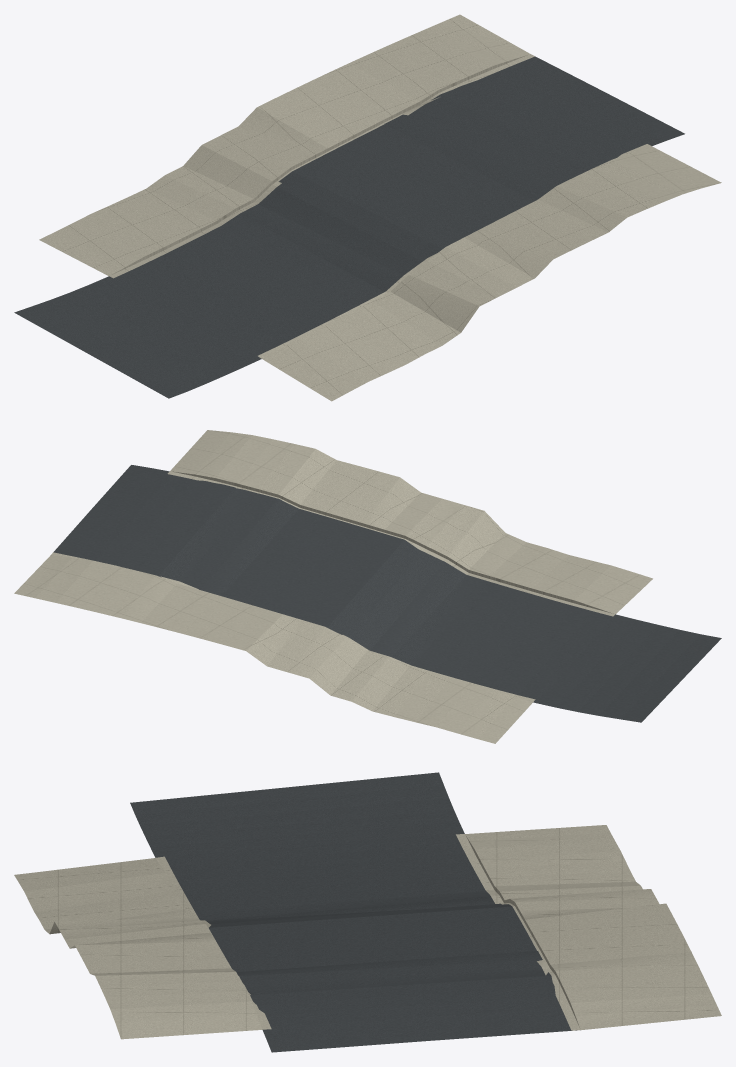
The picture shows the model from 3 angles, top to bottom: view 1: azimuth 30°, elevation 25°; view 2: azimuth 150°, elevation 25°; view 3: azimuth 270°, elevation 25°; orthographic projection. The views are drawn at different scales.
Visible parts, largest first — view 1: Carriageway, Clipped sidewalks with lowered crossing approaches, Concrete drainage margins, Raised curb faces; view 2: Carriageway, Clipped sidewalks with lowered crossing approaches, Concrete drainage margins, Raised curb faces; view 3: Carriageway, Clipped sidewalks with lowered crossing approaches, Concrete drainage margins, Raised curb faces.
Boxes of the visible parts, x1,y1,x2,y2 form: Carriageway: (14,56,684,398); Clipped sidewalks with lowered crossing approaches: (39,14,721,401); Concrete drainage margins: (109,54,651,358); Raised curb faces: (112,55,527,274); Carriageway: (53,465,721,722); Clipped sidewalks with lowered crossing approaches: (14,430,652,743); Concrete drainage margins: (51,471,614,702); Raised curb faces: (173,471,611,613); Carriageway: (130,772,580,1052); Clipped sidewalks with lowered crossing approaches: (14,825,721,1039); Concrete drainage margins: (156,834,580,1030); Raised curb faces: (466,836,579,1027).
Size of the model in its own units: 28.76 by 4.01 by 22.6.
